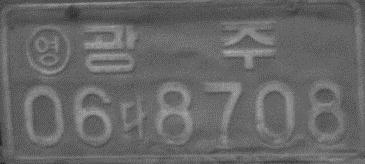0: (253, 80, 297, 147), (23, 83, 64, 145)
6: (73, 86, 112, 147)
7: (202, 79, 243, 146)
8: (305, 77, 347, 145), (154, 80, 194, 146)
광주_D: (81, 21, 276, 75)
다: (118, 93, 149, 140)
영: (24, 23, 70, 77)
